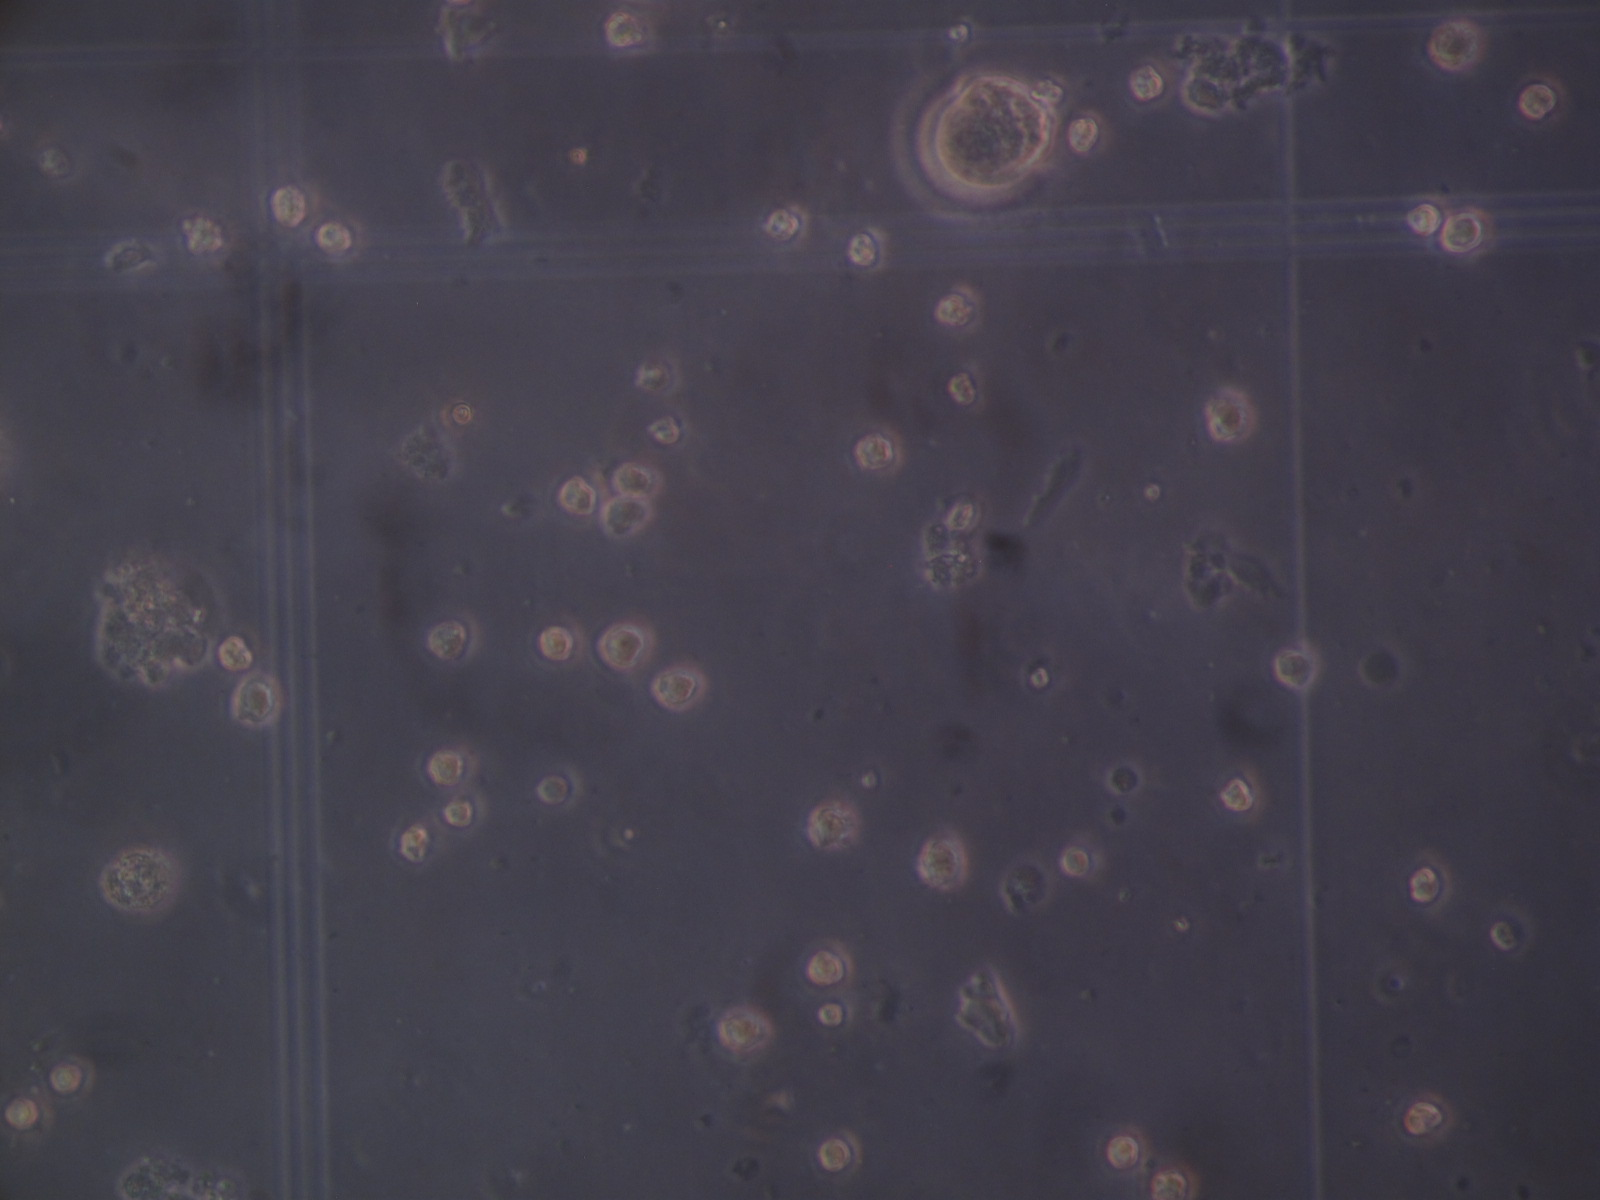hemo: (913, 832, 968, 894), (425, 608, 481, 666), (173, 202, 231, 258), (1426, 23, 1484, 73), (1437, 207, 1492, 258), (233, 672, 283, 726), (803, 939, 854, 989), (651, 667, 708, 712), (537, 615, 587, 666), (853, 424, 902, 475), (1204, 391, 1259, 437), (1409, 853, 1453, 910), (934, 284, 983, 334), (314, 214, 364, 263), (605, 6, 656, 54), (593, 625, 646, 671), (1403, 1093, 1454, 1139), (816, 1126, 864, 1174), (1516, 74, 1565, 121), (1129, 58, 1175, 107), (721, 1008, 771, 1053), (1489, 904, 1531, 957), (763, 202, 810, 248), (602, 498, 653, 541), (811, 800, 858, 846), (1221, 766, 1264, 816), (261, 182, 307, 226), (1107, 1123, 1148, 1174), (1065, 108, 1107, 155), (556, 471, 598, 518), (49, 1053, 96, 1095), (847, 222, 886, 271), (947, 361, 985, 411), (637, 353, 680, 397), (1274, 645, 1317, 689), (535, 766, 583, 805), (1150, 1162, 1199, 1200), (428, 747, 479, 783), (3, 1093, 50, 1129), (614, 461, 663, 497), (443, 795, 488, 832), (645, 412, 688, 449), (215, 634, 254, 672), (946, 498, 981, 534), (1406, 200, 1444, 234), (398, 823, 430, 862), (815, 996, 850, 1029), (1063, 845, 1092, 879)
